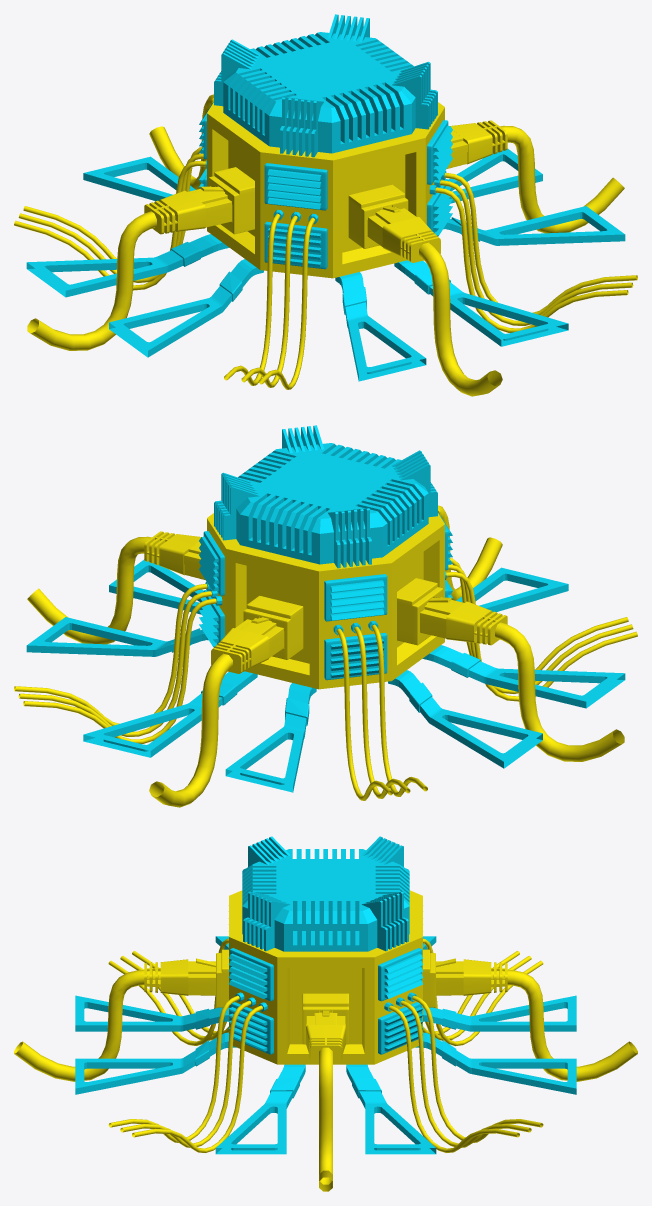
Rendered from ServerCore.fbx.
3 renders of one model, top to bottom at view 1: azimuth 30°, elevation 25°; view 2: azimuth 150°, elevation 25°; view 3: azimuth 270°, elevation 25°, orthographic. The views are drawn at different scales.
Visible parts, largest first — view 1: CoreCenter, pCube94, pCube130, pCube147, Support, Support3, Support5, Support6, Support4, pCube122, Support7, Support2 (+10 smaller); view 2: CoreCenter, pCube94, pCube138, pCube147, Support3, Support, Support1, Support2, Support7, pCube122, Support4, Support6 (+10 smaller); view 3: CoreCenter, pCube130, pCube138, pCube147, pCube122, Support5, Support1, Support2, Support6, Support4, Support7, ThinCable8 (+7 smaller).
Part boxes in pixels (x1,y1,x2,y2): CoreCenter: [199, 14, 452, 278]; pCube94: [27, 186, 232, 350]; pCube130: [367, 205, 502, 396]; pCube147: [446, 120, 624, 233]; Support: [26, 234, 229, 297]; Support3: [109, 259, 263, 357]; Support5: [394, 260, 568, 346]; Support6: [443, 206, 625, 245]; Support4: [335, 272, 426, 381]; pCube122: [228, 141, 405, 252]; Support7: [83, 156, 195, 201]; Support2: [448, 149, 542, 203]; CoreCenter: [199, 425, 452, 689]; pCube94: [420, 597, 624, 761]; pCube138: [149, 616, 284, 807]; pCube147: [27, 531, 205, 644]; Support3: [422, 645, 625, 708]; Support: [388, 670, 542, 768]; Support1: [83, 671, 257, 757]; Support2: [26, 617, 208, 656]; Support7: [225, 683, 316, 792]; pCube122: [246, 552, 423, 663]; Support4: [456, 567, 568, 612]; Support6: [109, 559, 203, 614]; CoreCenter: [216, 836, 435, 1064]; pCube130: [14, 958, 215, 1081]; pCube138: [436, 958, 637, 1081]; pCube147: [306, 1010, 345, 1191]; pCube122: [290, 968, 361, 1044]; Support5: [75, 1032, 236, 1094]; Support1: [415, 1032, 576, 1094]; Support2: [346, 1064, 436, 1154]; Support6: [215, 1064, 305, 1154]; Support4: [75, 995, 228, 1031]; Support7: [423, 995, 576, 1031]; ThinCable8: [132, 1005, 262, 1152].
Size of the model in its own units: 52.73 by 20.88 by 52.73.
